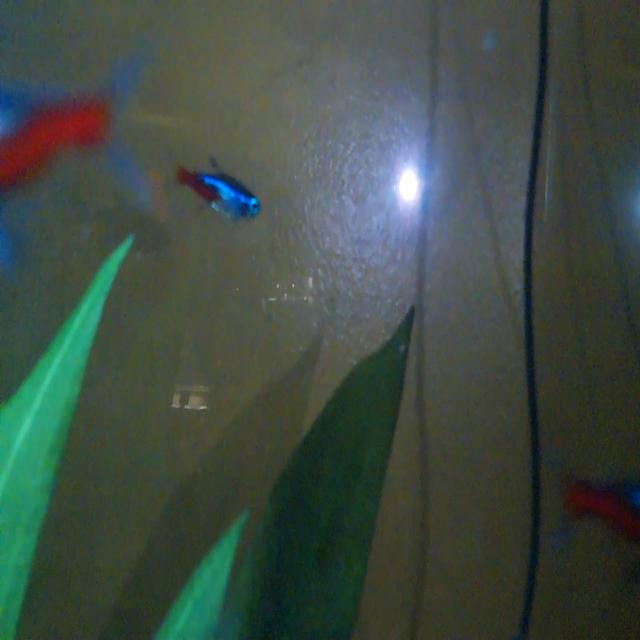fish: (170, 151, 266, 231)
